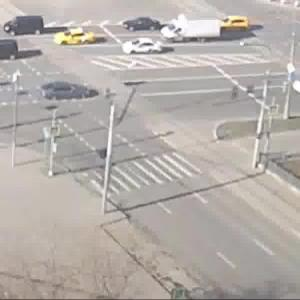car: (161, 19, 219, 48), (57, 32, 100, 52), (122, 38, 167, 57), (7, 17, 46, 37), (121, 19, 162, 35), (216, 19, 249, 36)
